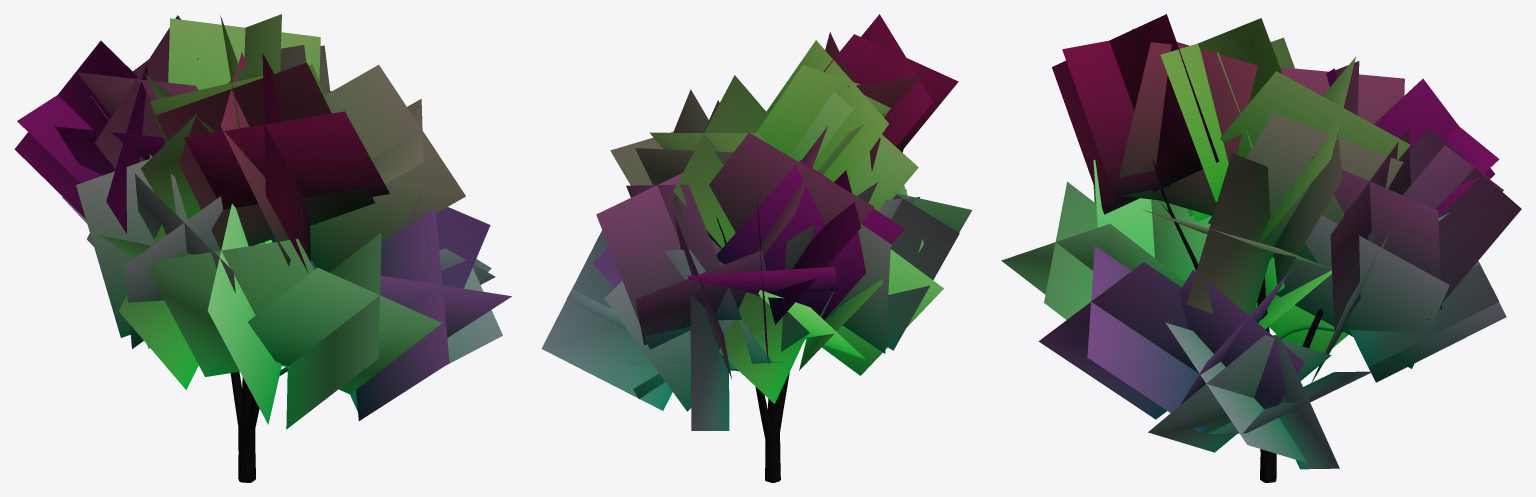
Rendered from M_P12_Tree_17.fbx.
The picture shows the model from 3 angles, left to right: view 1: azimuth 30°, elevation 25°; view 2: azimuth 150°, elevation 25°; view 3: azimuth 270°, elevation 25°; orthographic projection. The views are drawn at different scales.
Parts seen in each view (by area): view 1: Tree_17; view 2: Tree_17; view 3: Tree_17.
Part boxes in pixels (bbox=[...]): Tree_17: bbox=[14, 14, 511, 482]; Tree_17: bbox=[541, 14, 972, 482]; Tree_17: bbox=[1001, 14, 1521, 482].
Bounding box in the file's own units: 188 × 211 × 223.
